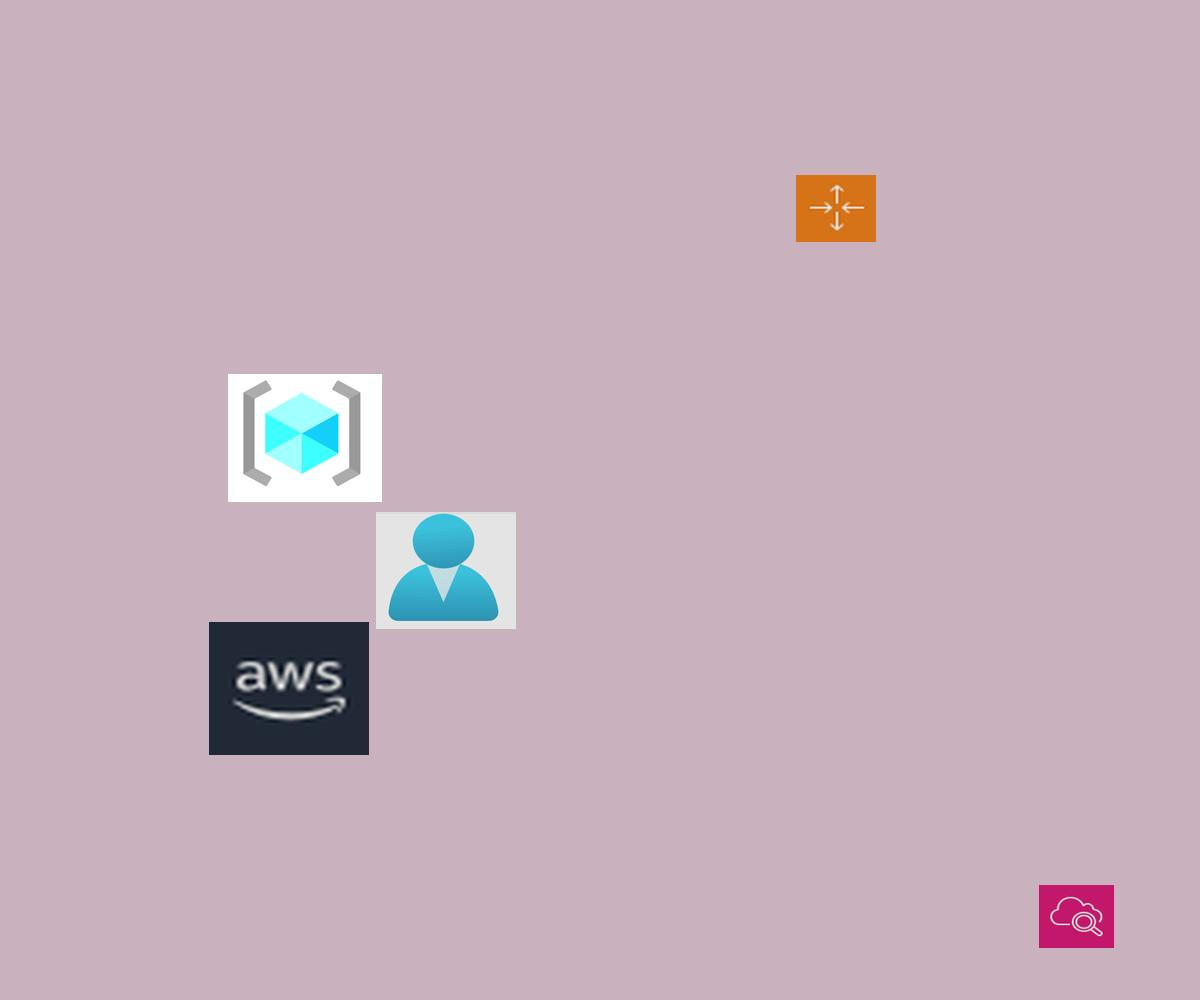AWS-Cloud-logo: (209, 622, 369, 755)
AWS-CloudWatch: (1039, 885, 1114, 948)
AWS-Scaling-group: (796, 175, 876, 242)
Azure_resource_group: (228, 374, 382, 502)
Azure_users: (376, 512, 516, 629)
